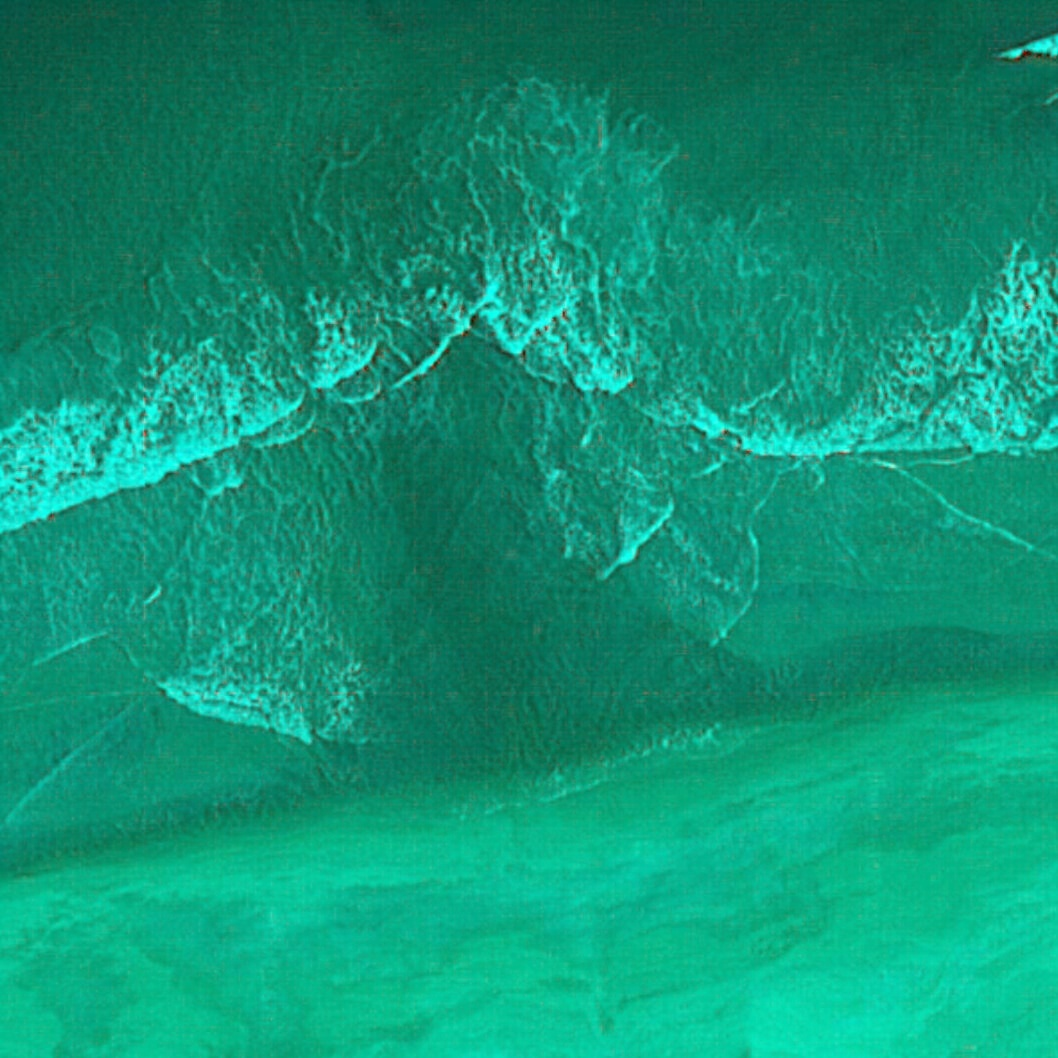rip_current: (215, 69, 696, 756)
